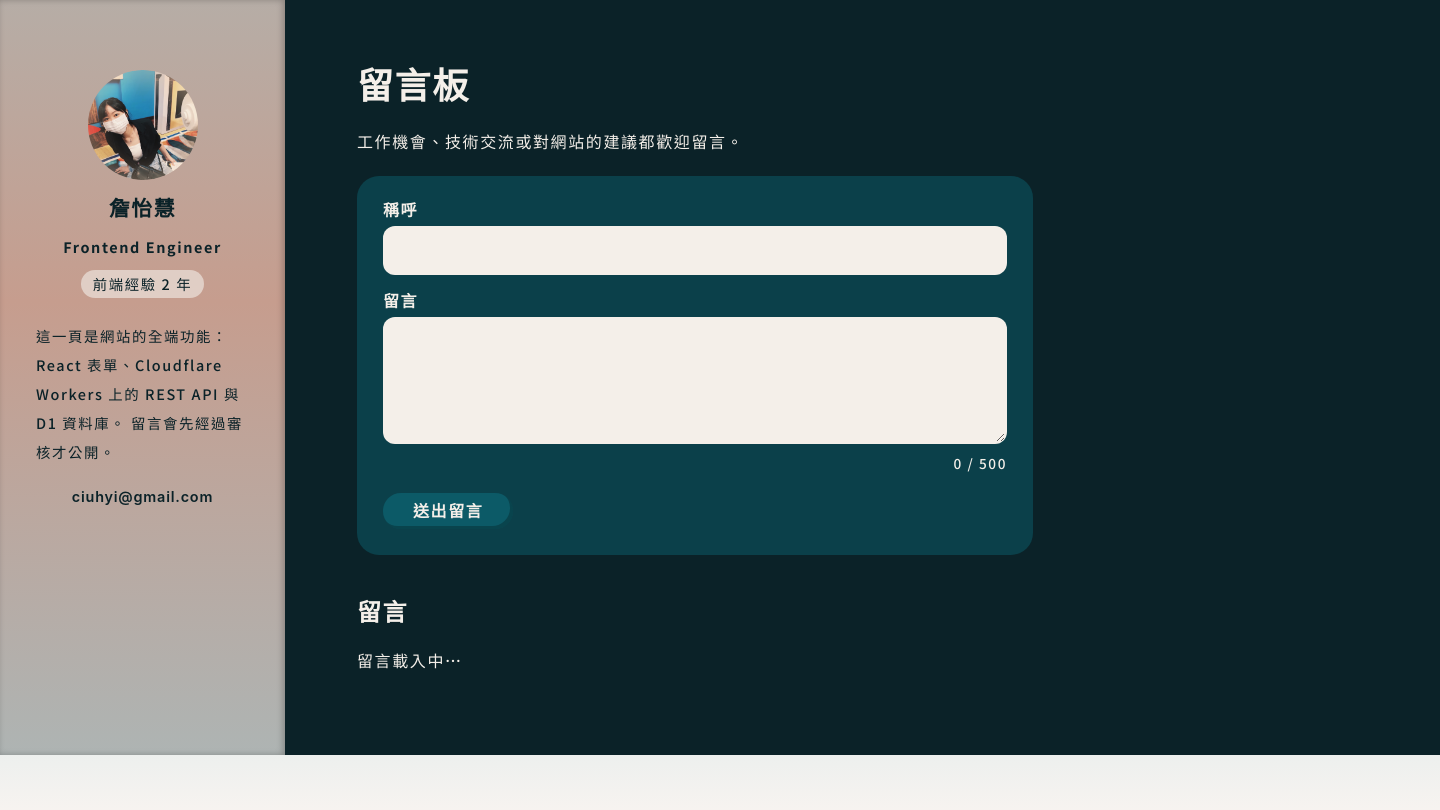
留言板 › 送出成功後清空表單並告知需要審核
Type "小明" into the field labelled "稱呼" at (695, 250), box [383, 226, 1007, 275]
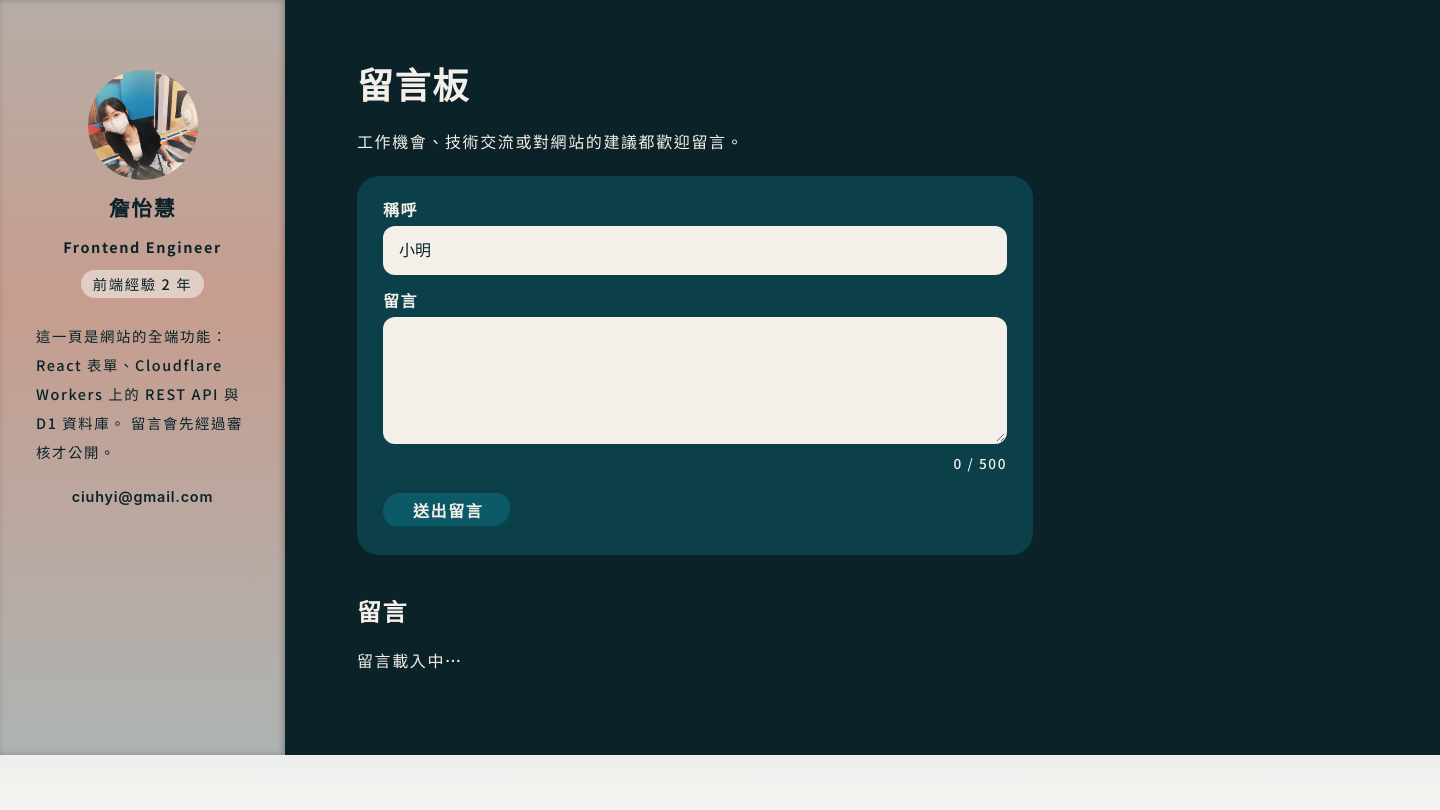
Type "你好" into the text box labelled "留言" at (695, 380), box [383, 317, 1007, 444]
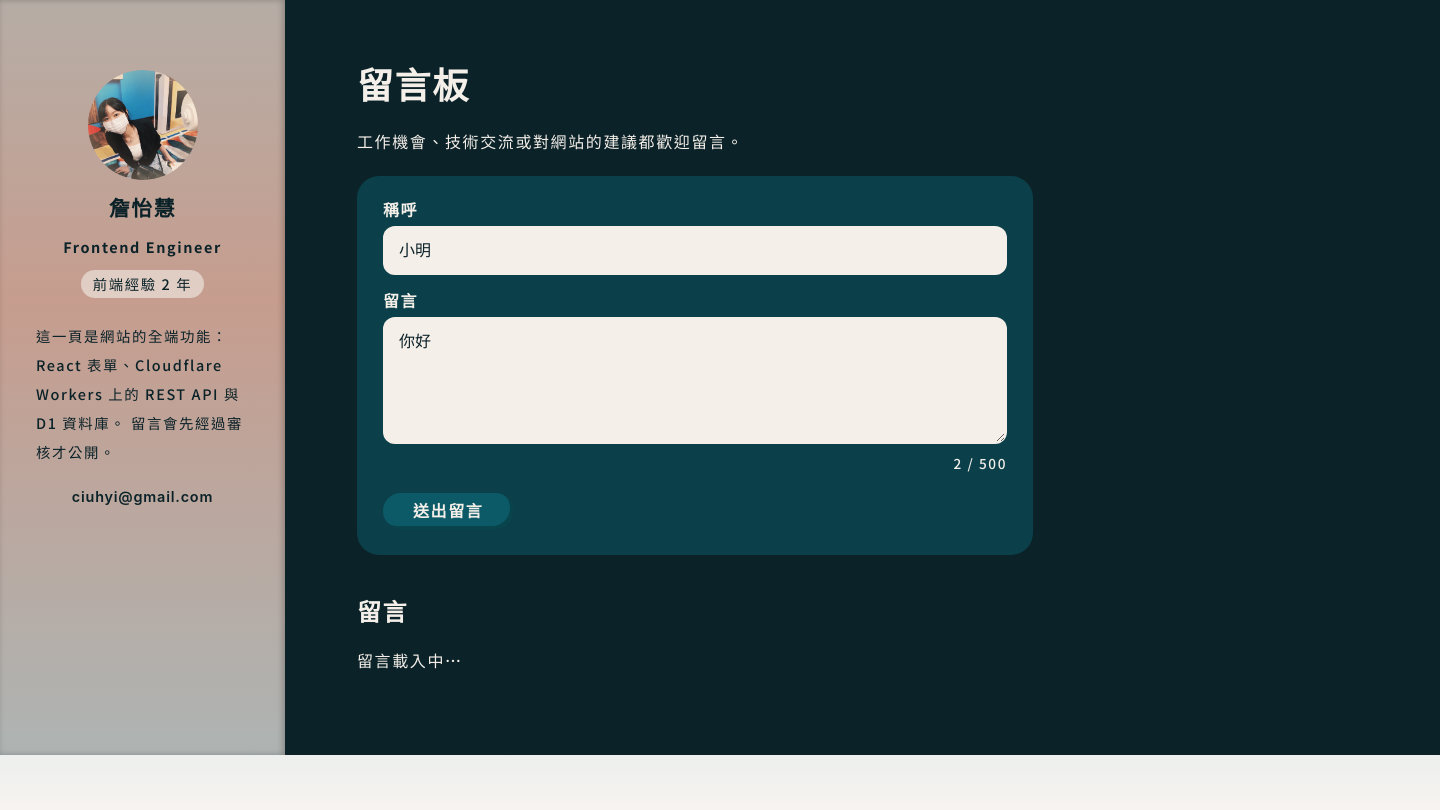
Click the button "送出留言" at (448, 511), box [383, 493, 513, 529]
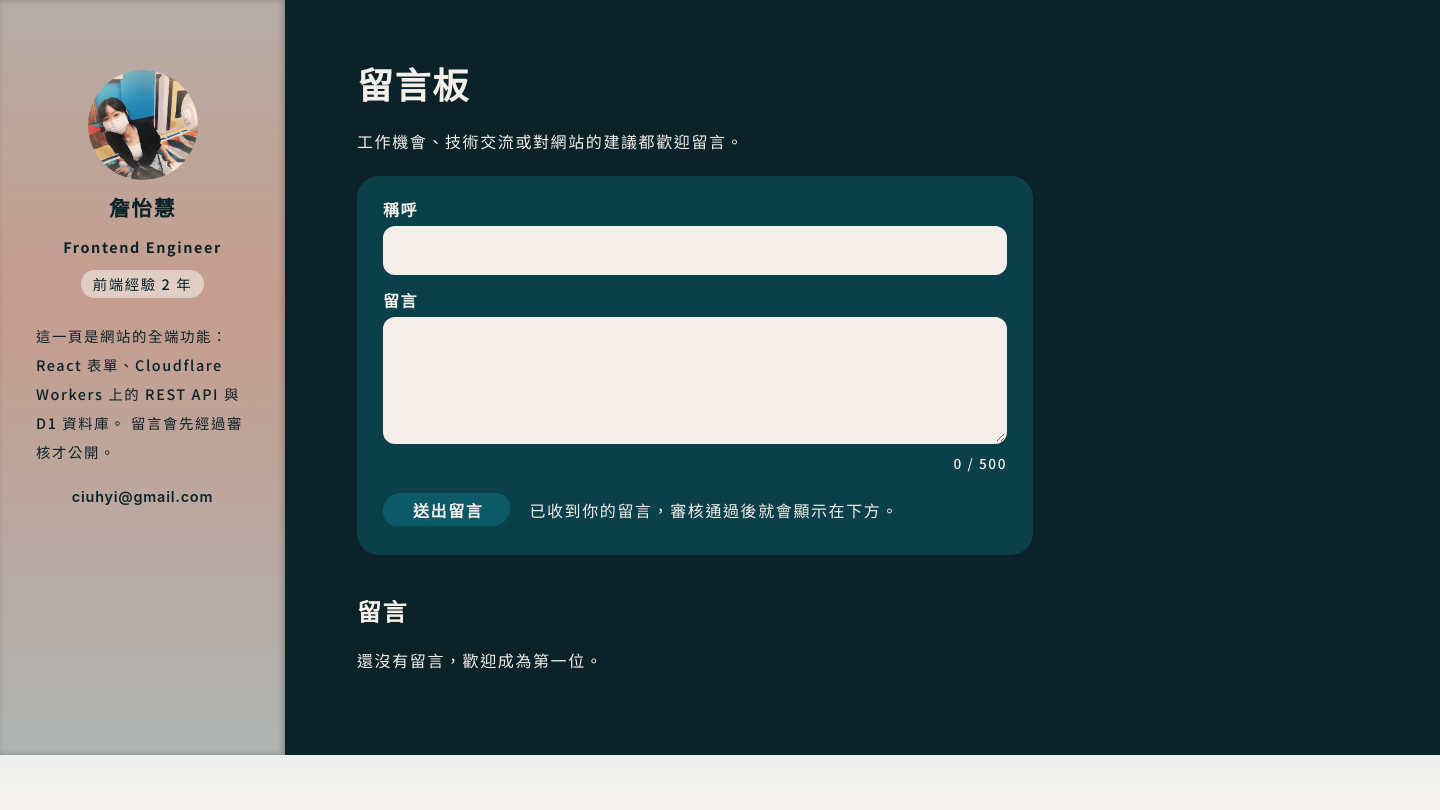
Result: the text "已收到你的留言，審核通過後就會顯示在下方。" is shown at [529, 498, 899, 522]
Result: the field labelled "稱呼" is empty at [383, 226, 1007, 275]
